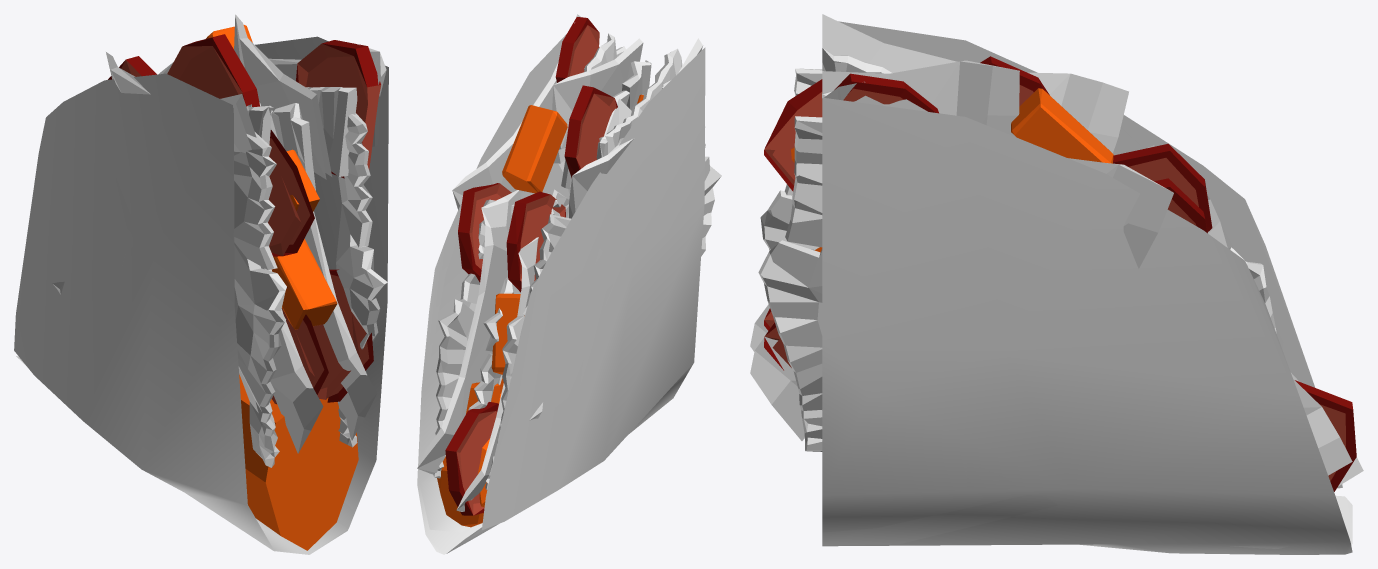
The model's file is HalfTacoTaco 1.fbx.
3 views of the same model, side by side, from view 1: azimuth 30°, elevation 25°; view 2: azimuth 150°, elevation 25°; view 3: azimuth 270°, elevation 25° (orthographic). The views are drawn at different scales.
Visible parts, largest first — view 1: Autres.004; view 2: Autres.004; view 3: Autres.004.
Part boxes in pixels (x1,y1,x2,y2): Autres.004: (14, 14, 388, 554); Autres.004: (417, 14, 721, 554); Autres.004: (750, 14, 1363, 554).
Size of the model in its own units: 25.62 by 84.34 by 77.42.
